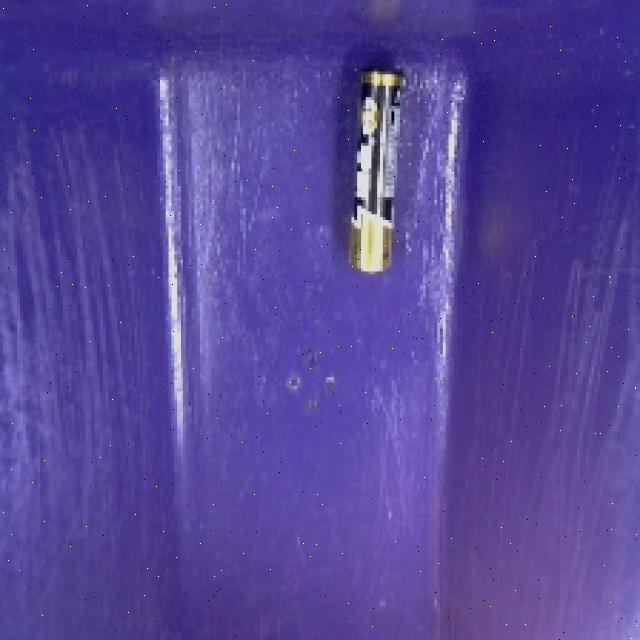battery: (335, 54, 412, 284)
